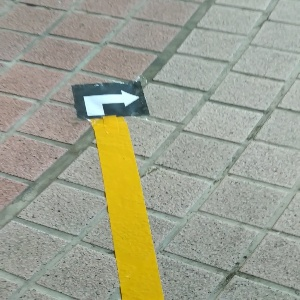right: (71, 80, 148, 116)
